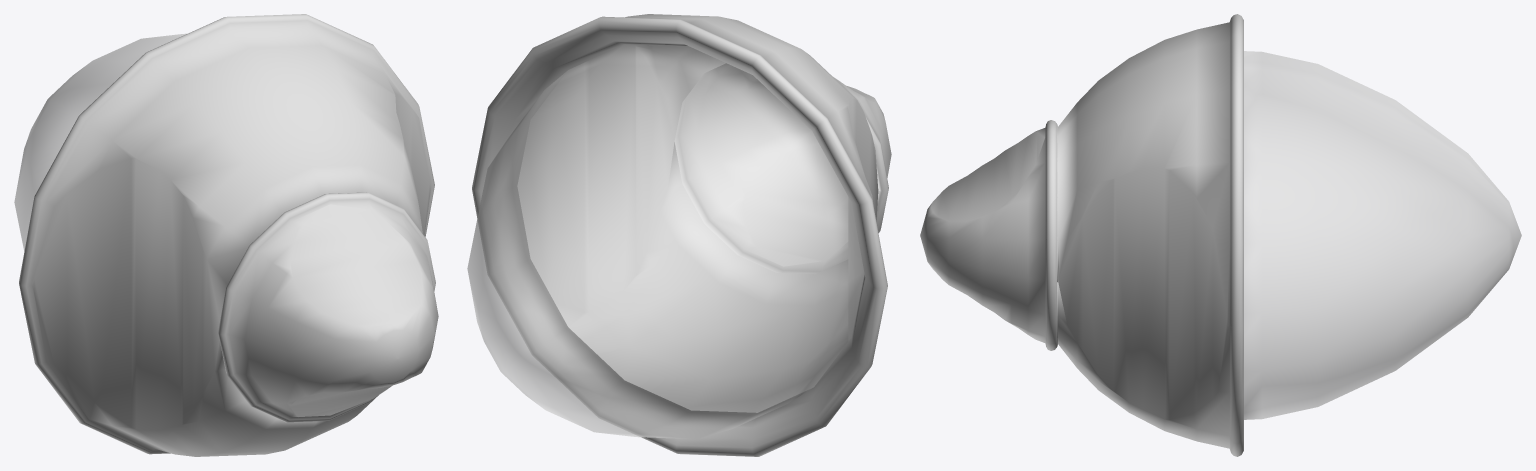
Rendered from Semaphor.obj.
3 renders of one model, left to right at view 1: azimuth 30°, elevation 25°; view 2: azimuth 150°, elevation 25°; view 3: azimuth 270°, elevation 25°, orthographic. The views are drawn at different scales.
Parts seen in each view (by area): view 1: Semaphor_Lampe.001; view 2: Semaphor_Lampe.001; view 3: Semaphor_Lampe.001.
Boxes of the visible parts, x1,y1,x2,y2 form: Semaphor_Lampe.001: (14, 14, 438, 456); Semaphor_Lampe.001: (467, 14, 891, 456); Semaphor_Lampe.001: (920, 14, 1521, 456).
Size of the model in its own units: 0.4253 by 0.4253 by 0.5772.
2 materials, 1 textured.
